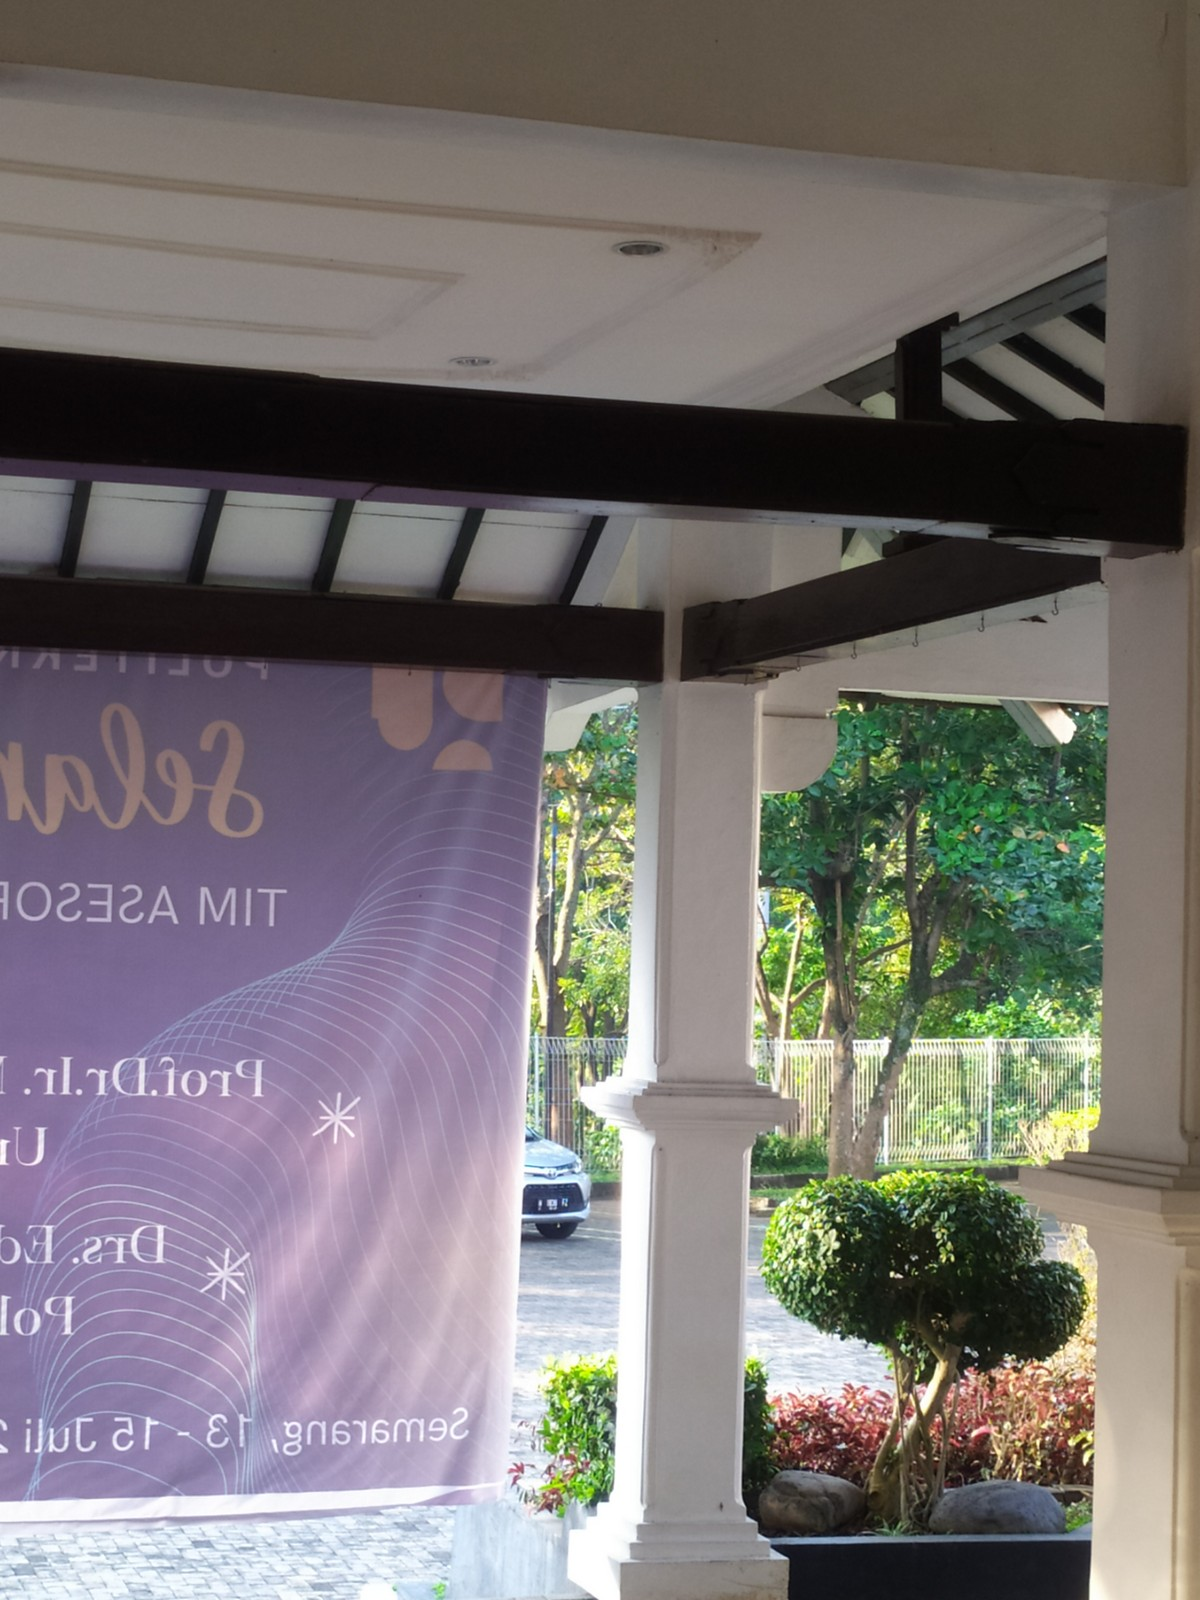concrete column: (606, 682, 779, 1546)
